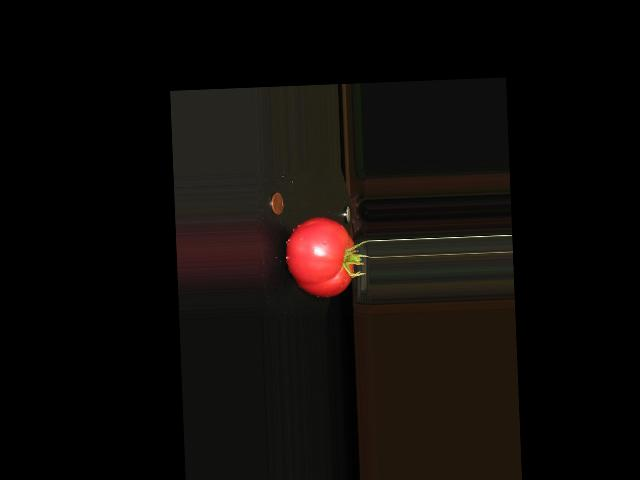tomato: (284, 216, 356, 299)
